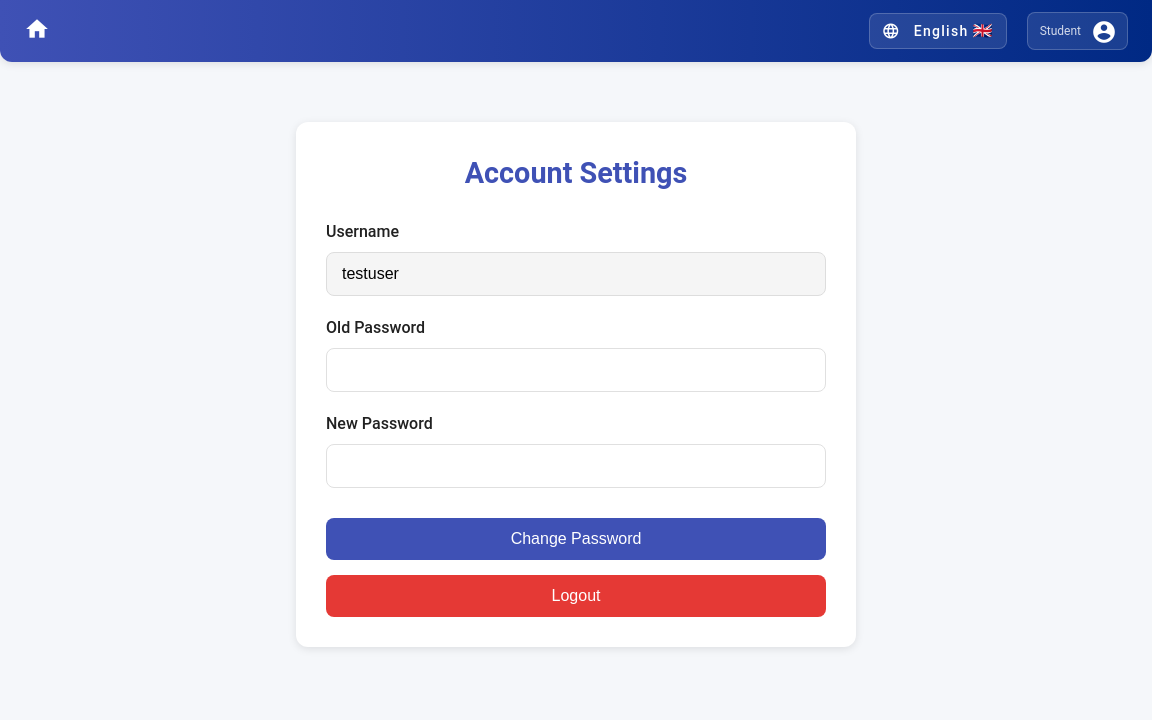
Account Management › should show success message after password change
The image size is (1152, 720).
// Fill in the password change form
Type "oldpassword" into the password field with id "old-password" at (576, 370), box [326,348,826,392]
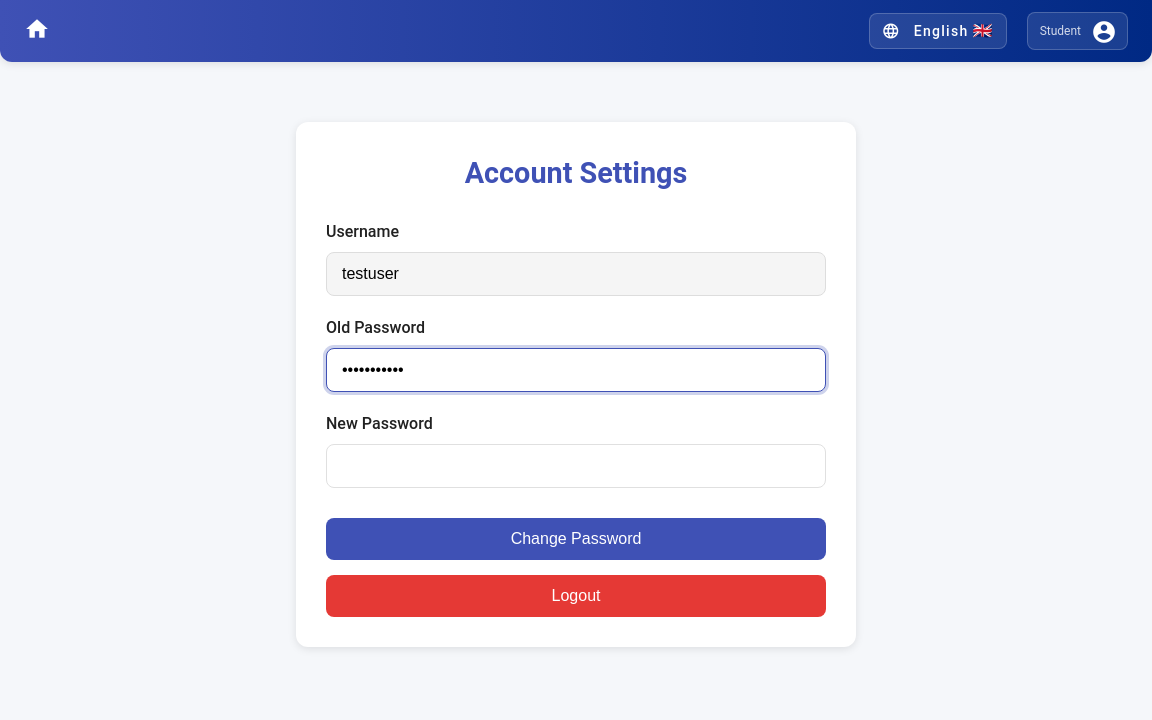
Type "NewPassword123!" into the password field with id "new-password" at (576, 466), box [326,444,826,488]
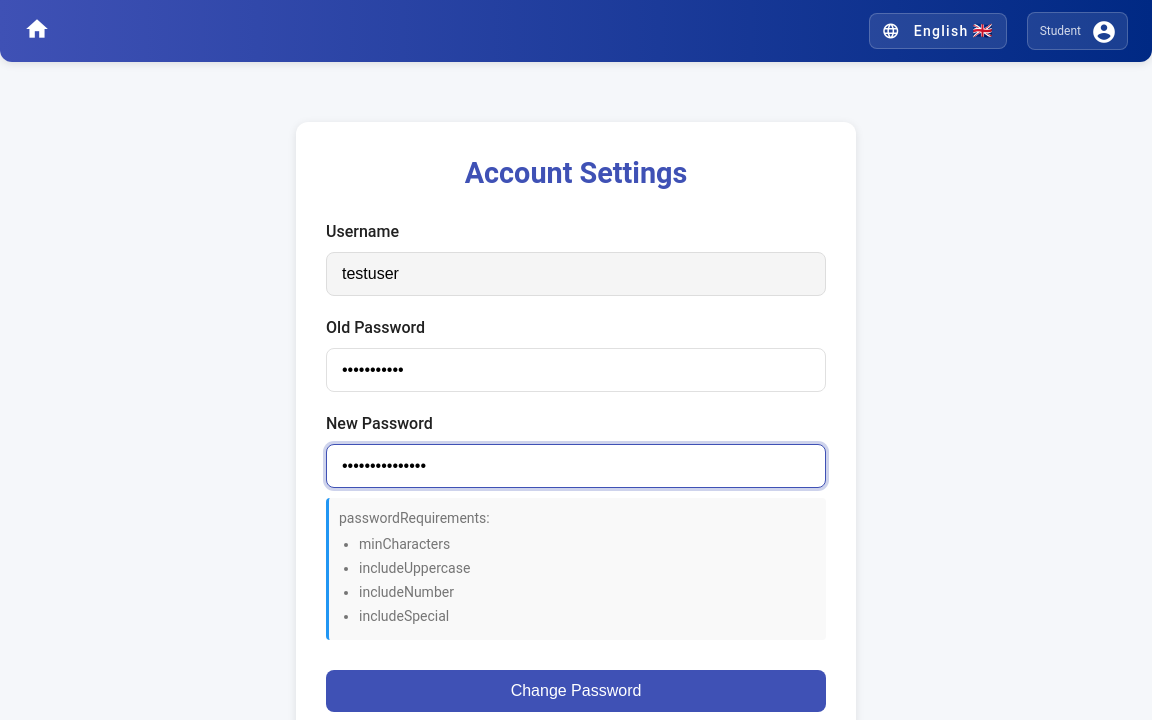
// Submit the form
Click the submit button at (576, 691), box [326,670,826,712]
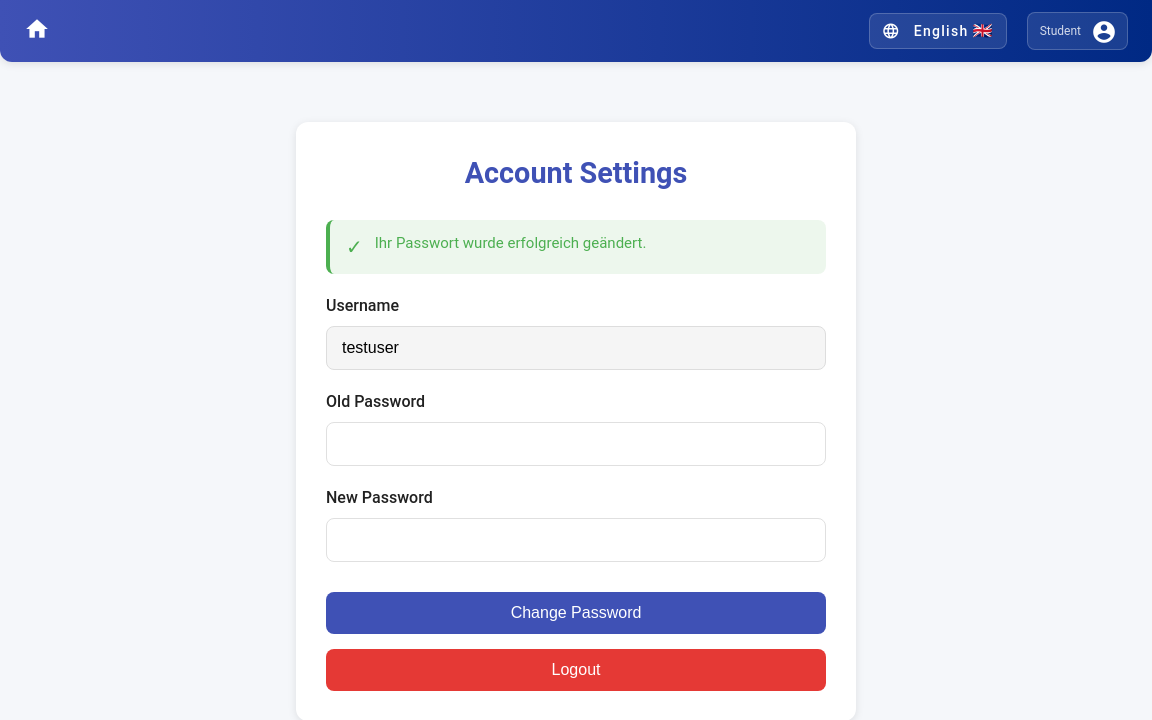
Now the element showing "✓ Ihr Passwort wurde erfolgreich geändert." is shown, box [326,220,826,274]
